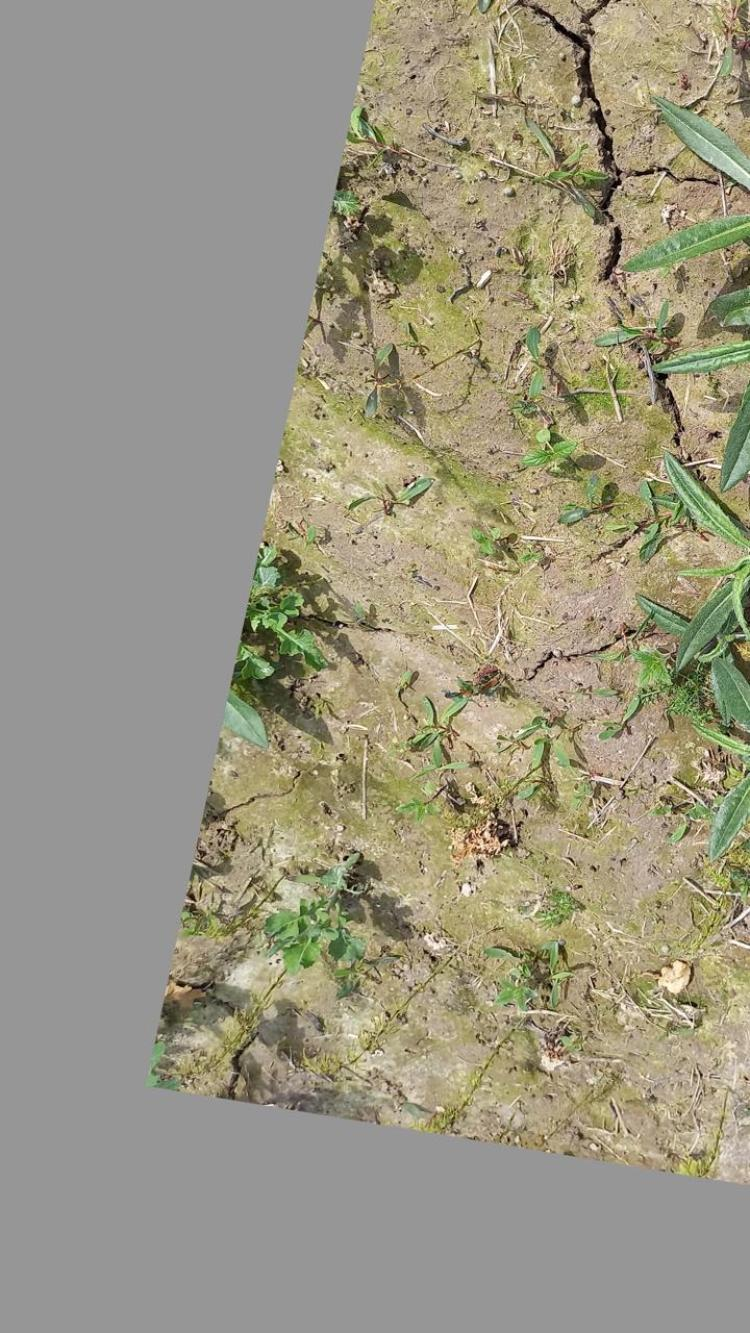osot: (656, 454, 750, 664)
